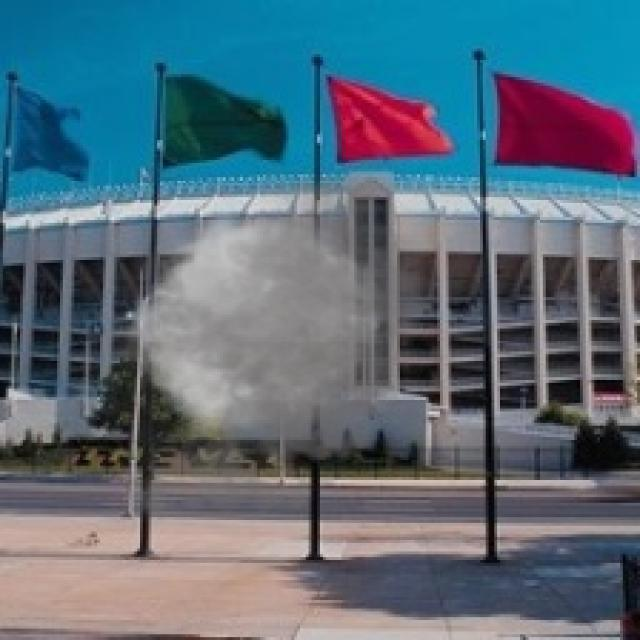Smoke: (59, 157, 454, 534)
